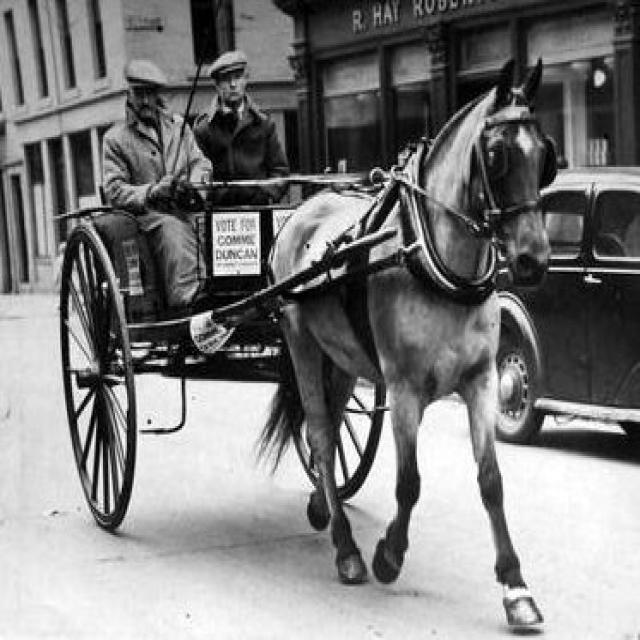Vehicle: (492, 165, 640, 449)
